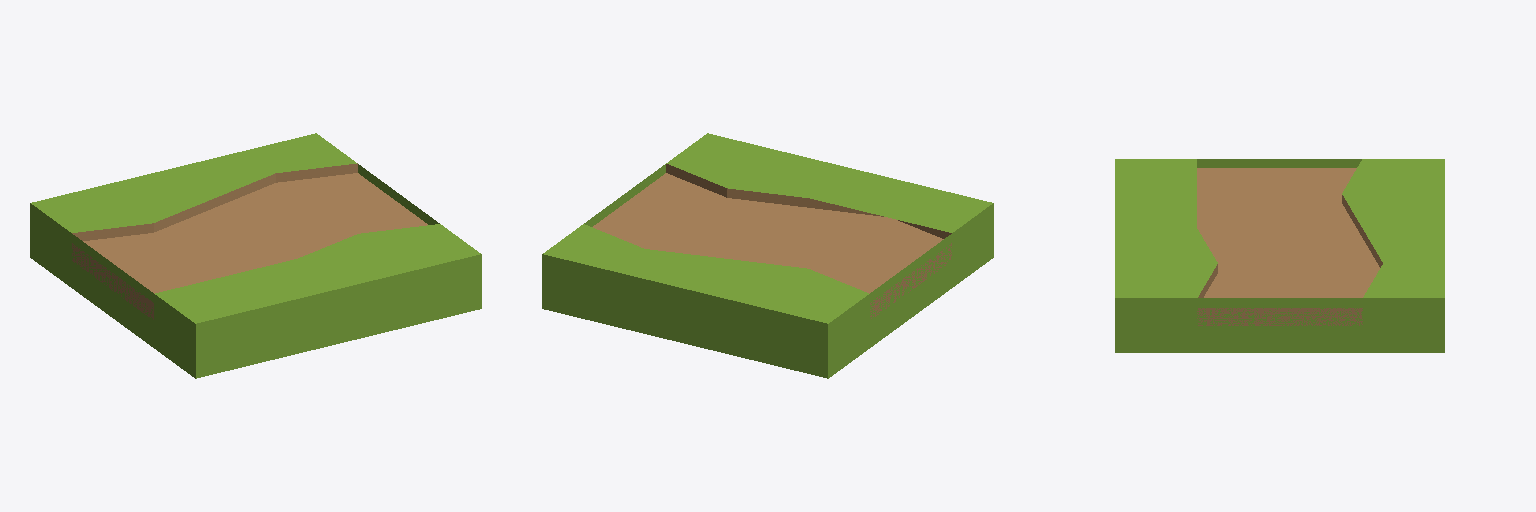
3 renders of one model, left to right at view 1: azimuth 30°, elevation 25°; view 2: azimuth 150°, elevation 25°; view 3: azimuth 270°, elevation 25°, orthographic.
Visible parts, largest first — view 1: roadTile_023.001; view 2: roadTile_023.001; view 3: roadTile_023.001.
Boxes of the visible parts, <box> form: roadTile_023.001: <box>30,133,481,378</box>; roadTile_023.001: <box>542,133,993,378</box>; roadTile_023.001: <box>1115,159,1444,352</box>.
Bounding box in the file's own units: 3 × 0.55 × 3.